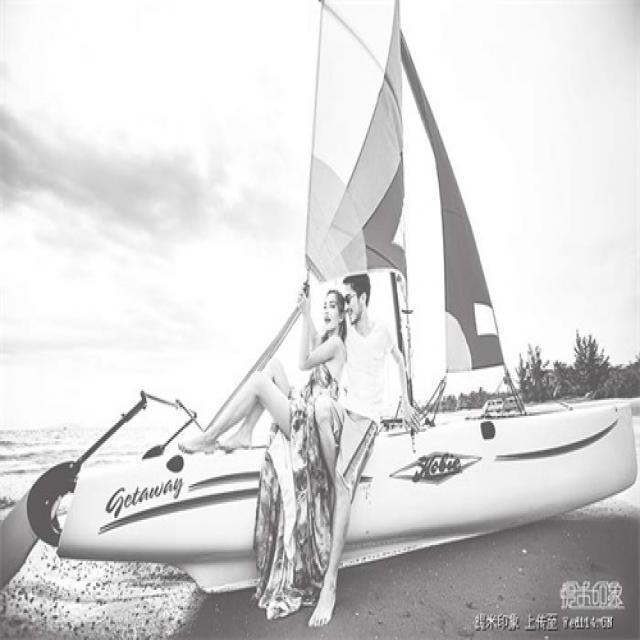Ship: (44, 14, 632, 587)
